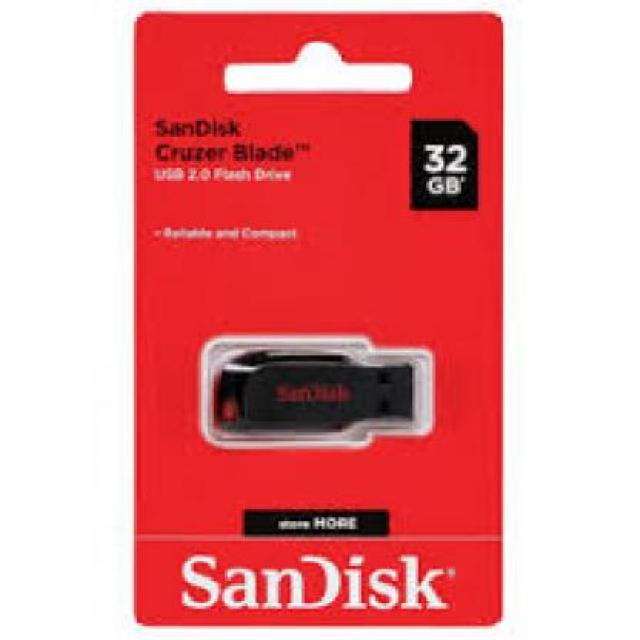Flashdisk: (211, 346, 420, 440)
